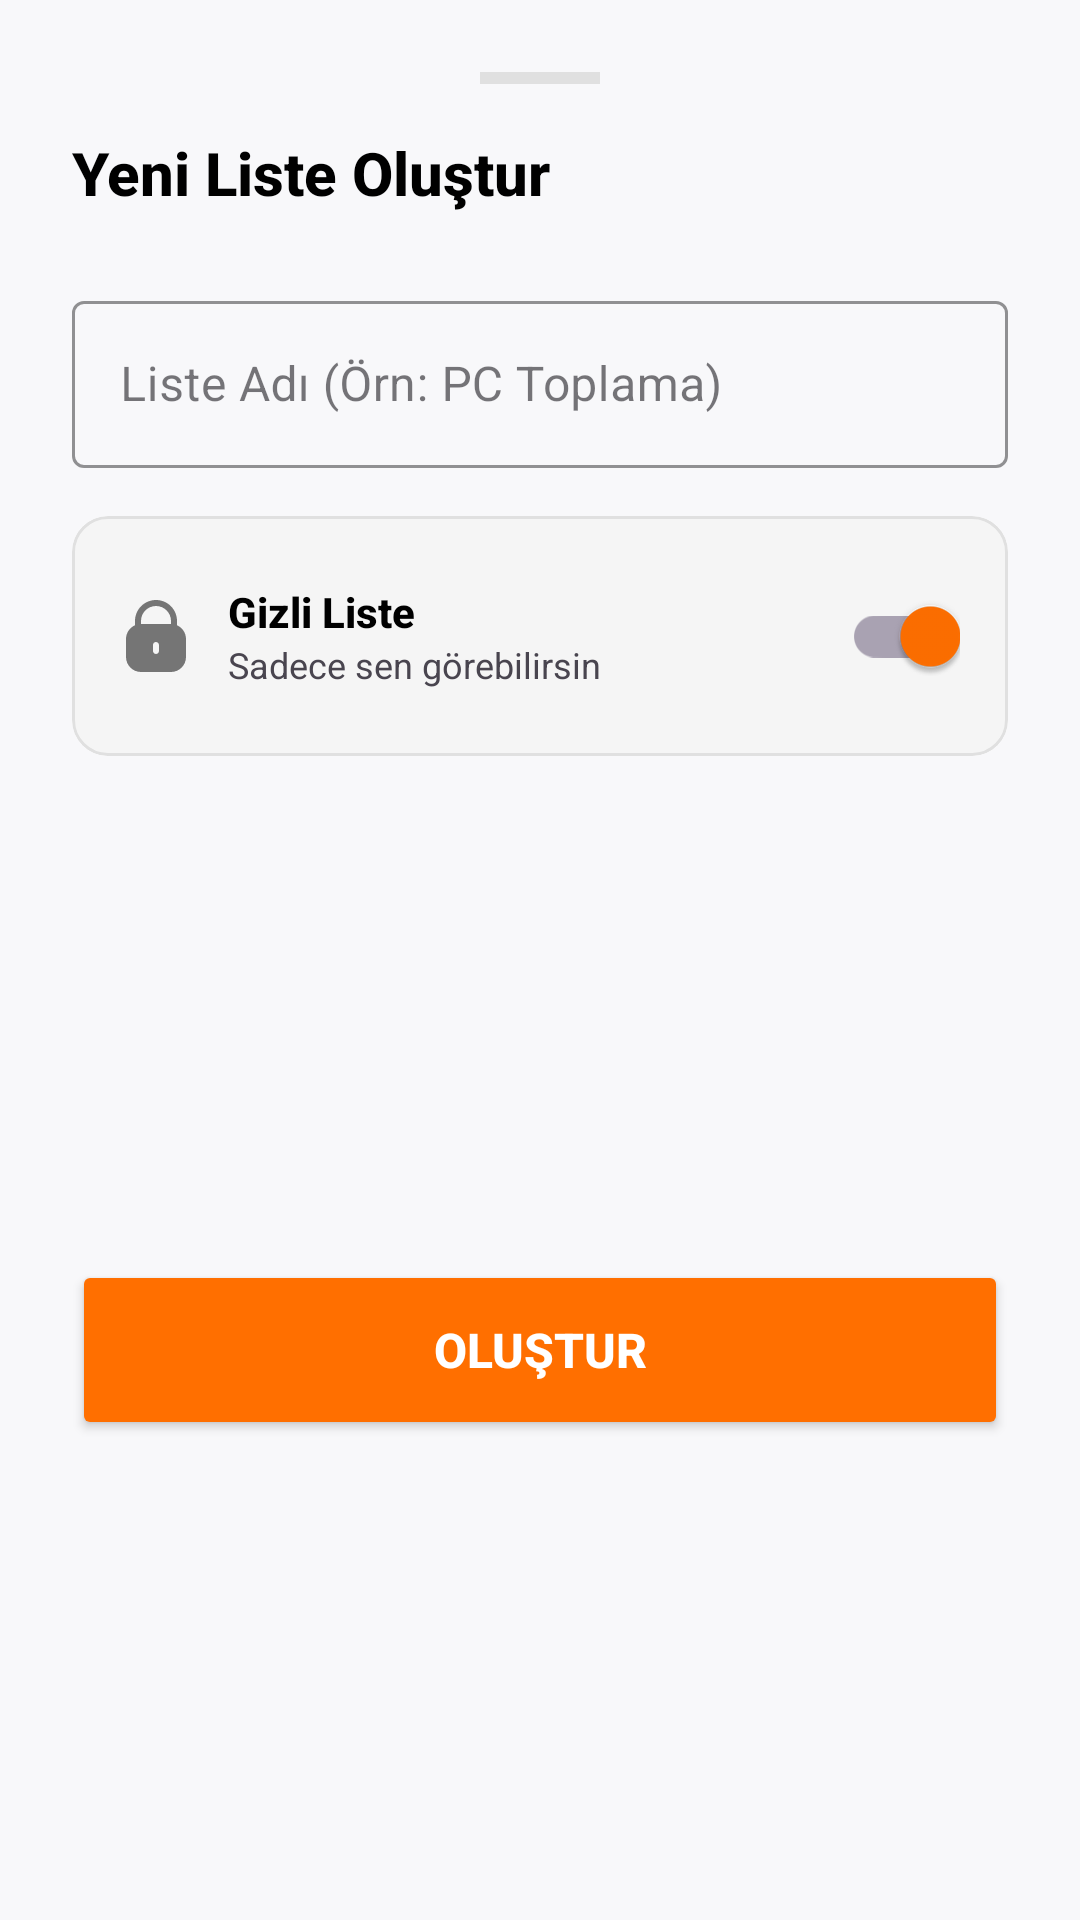

Locate icon controls on the screen. Image size 1080 x 1920, boxes as BBox(x1, y1, x2, y2).
lock: BBox(126, 600, 186, 672)
